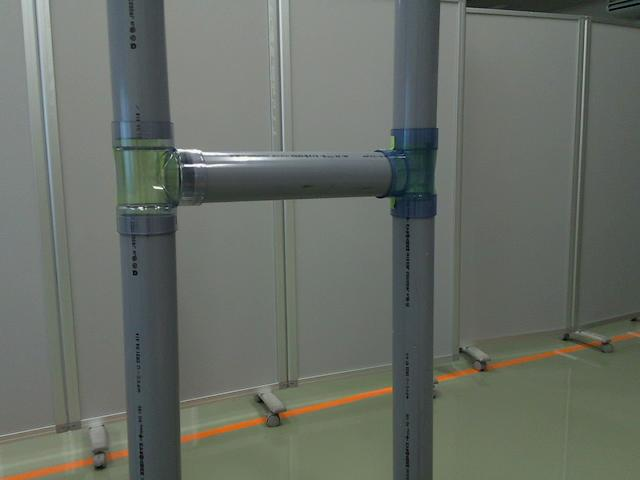junction: (109, 120, 208, 238), (377, 129, 442, 222)
